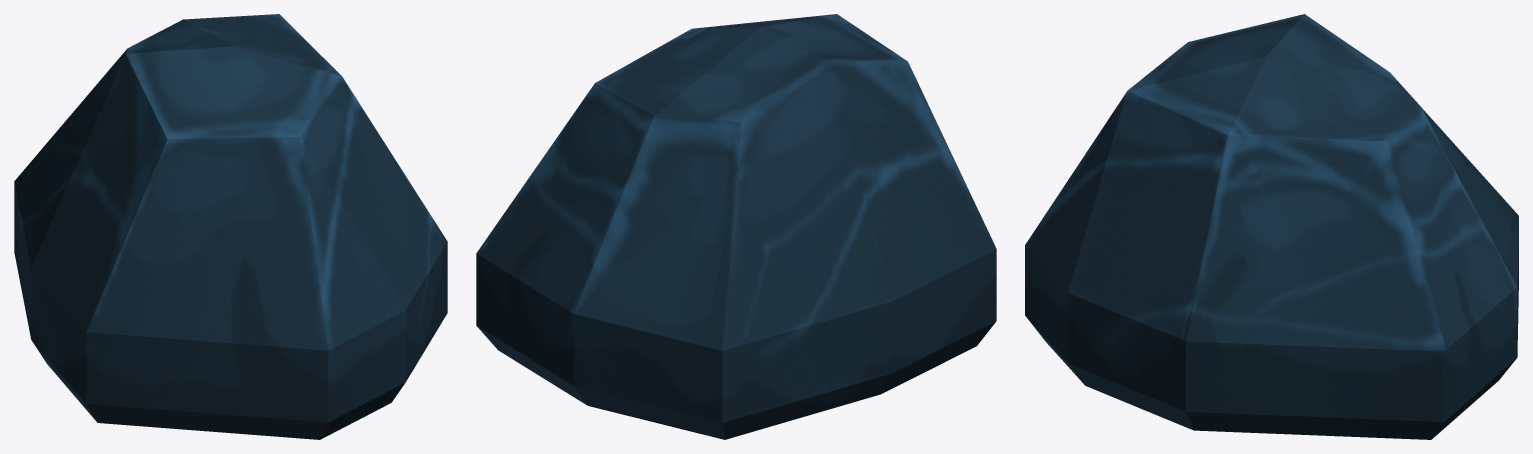
Rendered from Rock2.FBX.
3 renders of one model, left to right at view 1: azimuth 30°, elevation 25°; view 2: azimuth 150°, elevation 25°; view 3: azimuth 270°, elevation 25°, orthographic. The views are drawn at different scales.
Visible parts, largest first — view 1: Rock2; view 2: Rock2; view 3: Rock2.
Part boxes in pixels (bbox=[...]): Rock2: bbox=[14, 14, 447, 439]; Rock2: bbox=[476, 14, 996, 439]; Rock2: bbox=[1025, 14, 1518, 439].
Size of the model in its own units: 18.18 by 13.73 by 20.6.
